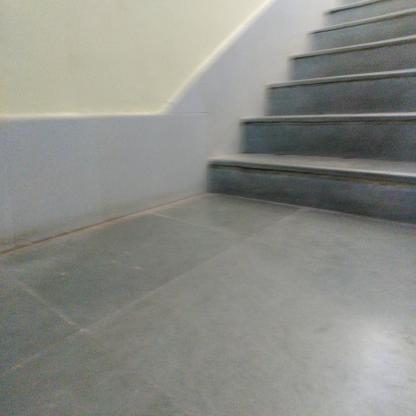stairs: (306, 28, 416, 231)
